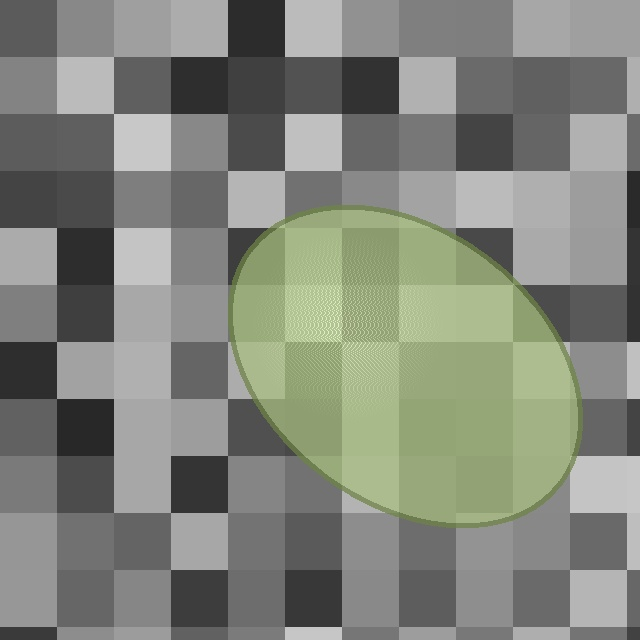lens: (230, 207, 580, 525)
